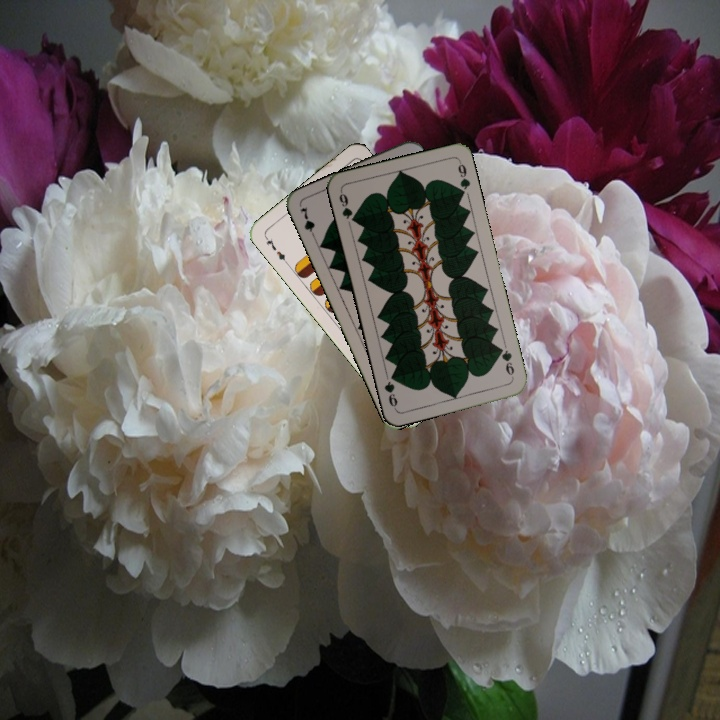E7: (261, 232, 290, 267)
G7: (296, 203, 319, 242)
G9: (335, 187, 359, 225), (495, 343, 517, 381)
